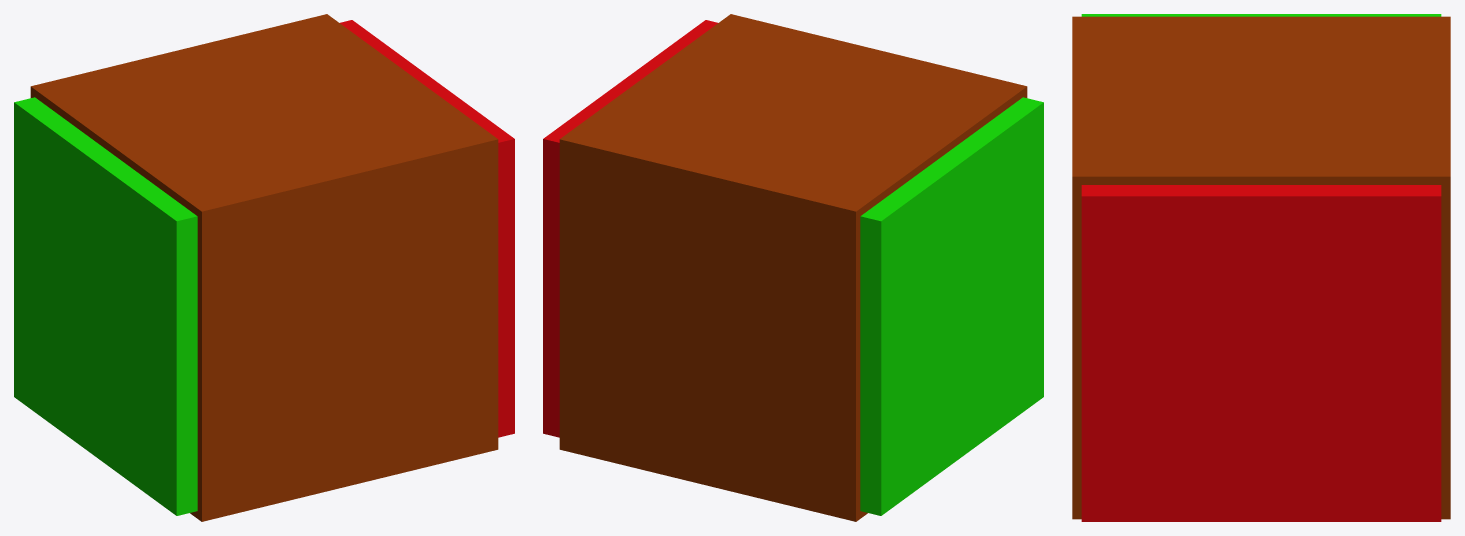
File: Machine.fbx
3 views of the same model, side by side, from view 1: azimuth 30°, elevation 25°; view 2: azimuth 150°, elevation 25°; view 3: azimuth 270°, elevation 25° (orthographic). The views are drawn at different scales.
Visible parts, largest first — view 1: Machine, Input, Output; view 2: Machine, Input, Output; view 3: Output, Machine, Input.
Boxes of the visible parts, x1,y1,x2,y2 form: Machine: (30, 14, 498, 521); Input: (14, 97, 197, 515); Output: (340, 20, 514, 437); Machine: (559, 14, 1027, 521); Input: (860, 97, 1043, 515); Output: (543, 20, 717, 437); Output: (1081, 185, 1441, 521); Machine: (1072, 16, 1450, 519); Input: (1081, 14, 1441, 16).
Bounding box in the file's own units: 228 × 200 × 200.
